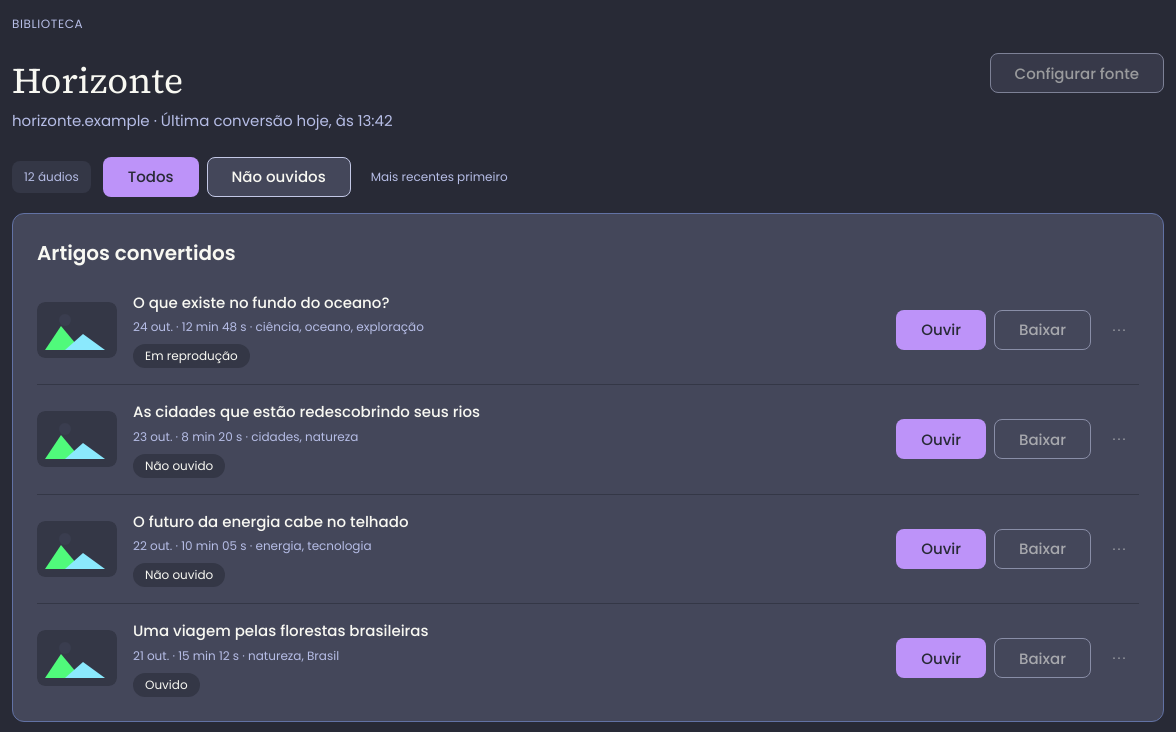
Scenario: switching filter to "Não ouvidos" and back to "Todos" updates aria-pressed and filters list
Expected: the heading "Horizonte" is shown, [12,56,183,105]
Click the button "Não ouvidos" at (279, 177), box [206,157,351,197]
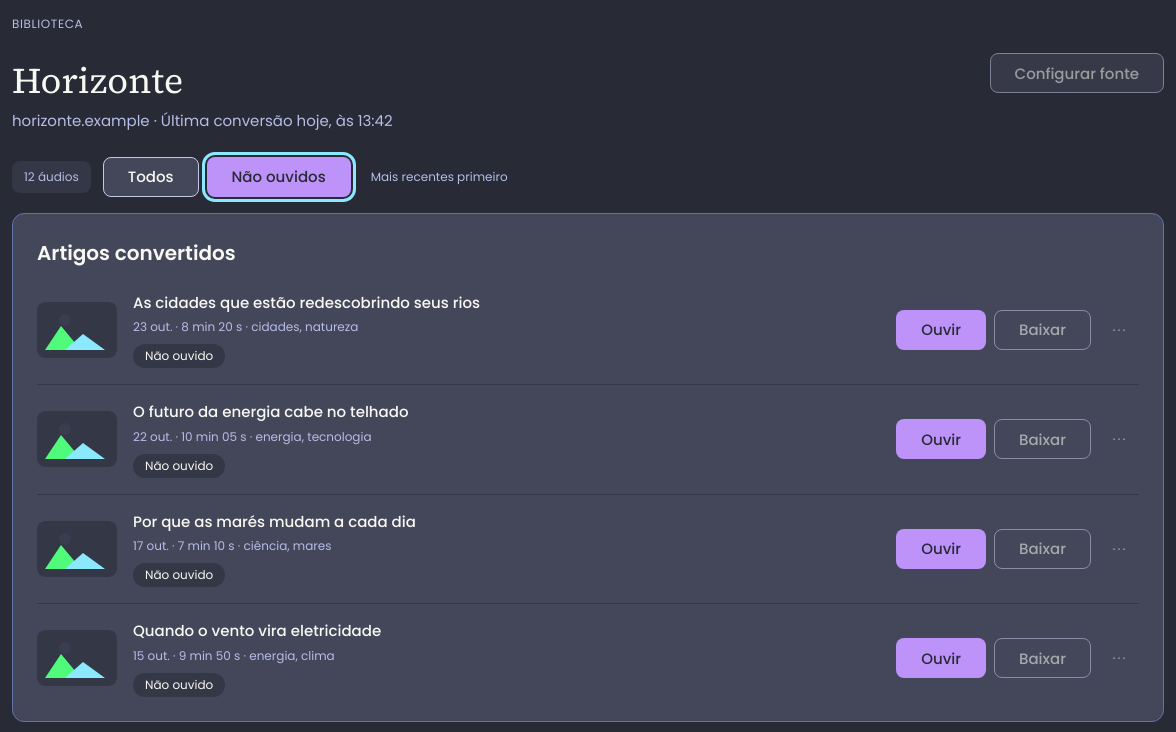
Now the heading "O que existe no fundo do oceano?" is gone
Now the heading "As cidades que estão redescobrindo seus rios" is shown, box [133,292,480,313]
Now the heading "O futuro da energia cabe no telhado" is shown, box [133,401,408,422]
Click the button "Todos" at (151, 177), box [103,157,199,197]
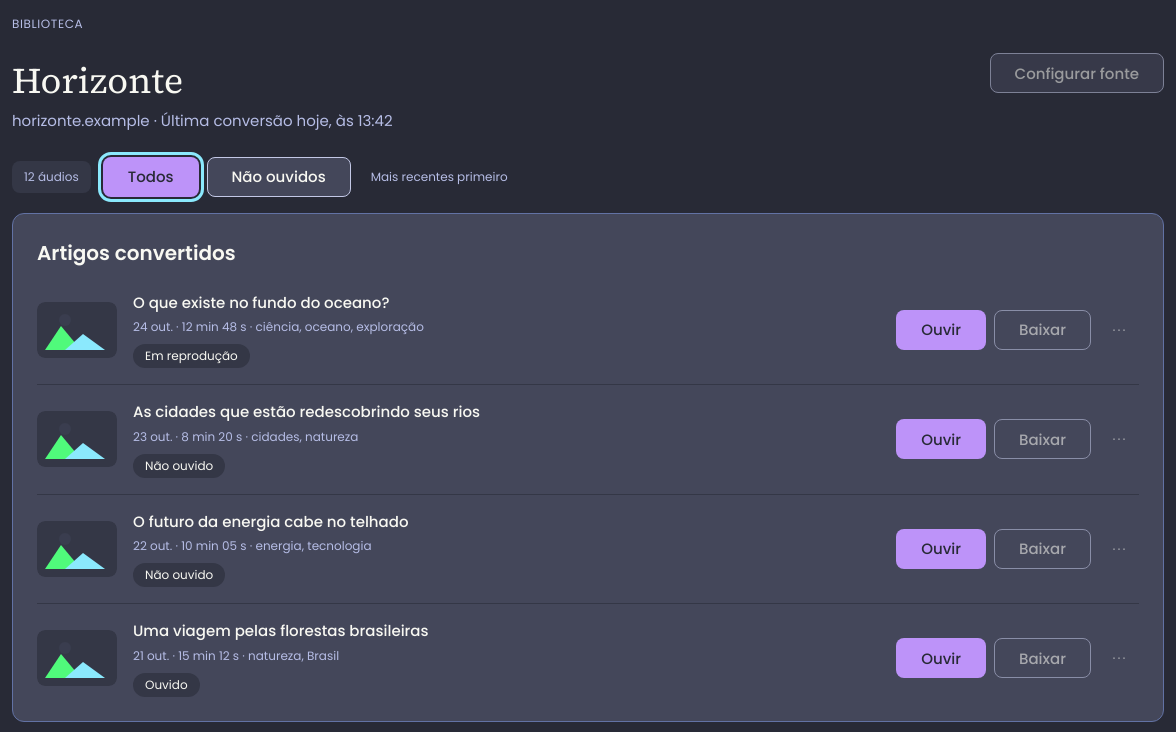
Now the heading "O que existe no fundo do oceano?" is shown, box [133,292,390,313]
